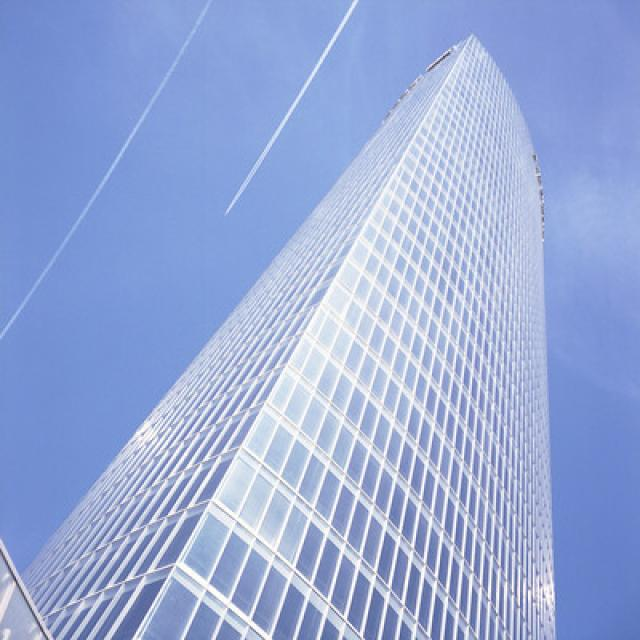building: (34, 32, 560, 640)
